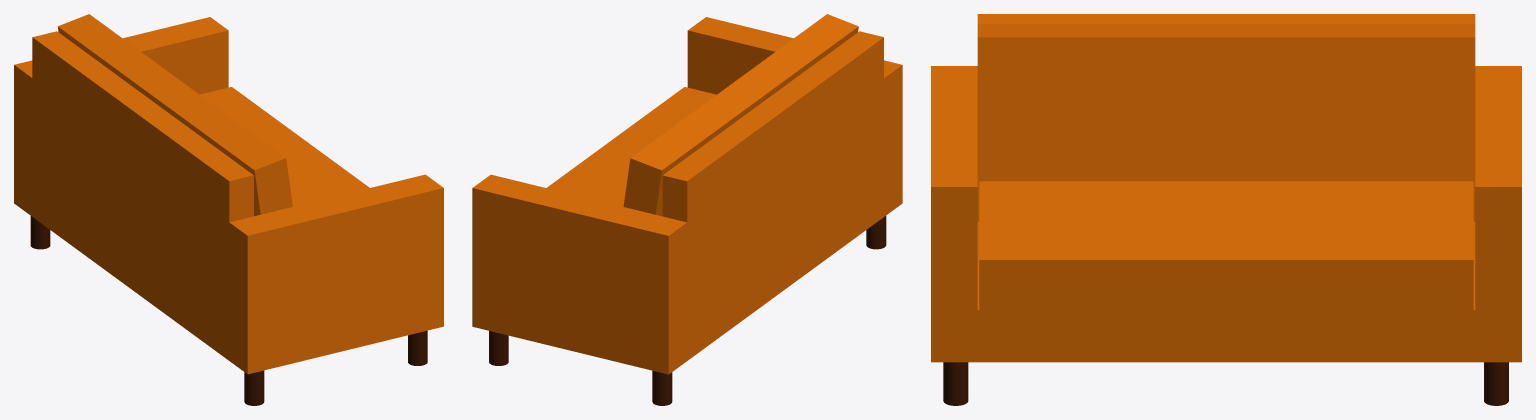
Rendered from Couch 1.fbx.
3 views of the same model, side by side, from view 1: azimuth 30°, elevation 25°; view 2: azimuth 150°, elevation 25°; view 3: azimuth 270°, elevation 25° (orthographic). The views are drawn at different scales.
Visible parts, largest first — view 1: Cube.006, Cube.003, Cube.004, Cylinder.001, Cylinder, Cylinder.003; view 2: Cube.006, Cube.003, Cube.004, Cylinder.003, Cylinder.002, Cylinder.001; view 3: Cube.003, Cube.004, Cube.006, Cylinder, Cylinder.002.
Part boxes in pixels (box(x1,y1,x2,y2)): Cube.006: box(14, 17, 443, 374); Cube.003: box(57, 14, 292, 216); Cube.004: box(200, 87, 369, 206); Cylinder.001: box(244, 370, 264, 405); Cylinder: box(408, 330, 427, 365); Cylinder.003: box(30, 216, 50, 249); Cube.006: box(472, 17, 902, 374); Cube.003: box(623, 14, 858, 216); Cube.004: box(547, 87, 716, 206); Cylinder.003: box(652, 370, 672, 405); Cylinder.002: box(489, 331, 508, 365); Cylinder.001: box(866, 216, 886, 249); Cube.003: box(977, 23, 1475, 221); Cube.004: box(979, 181, 1473, 311); Cube.006: box(931, 14, 1521, 362); Cylinder: box(943, 362, 968, 405); Cylinder.002: box(1484, 362, 1508, 405).
Size of the model in its own units: 81 by 88.64 by 165.
